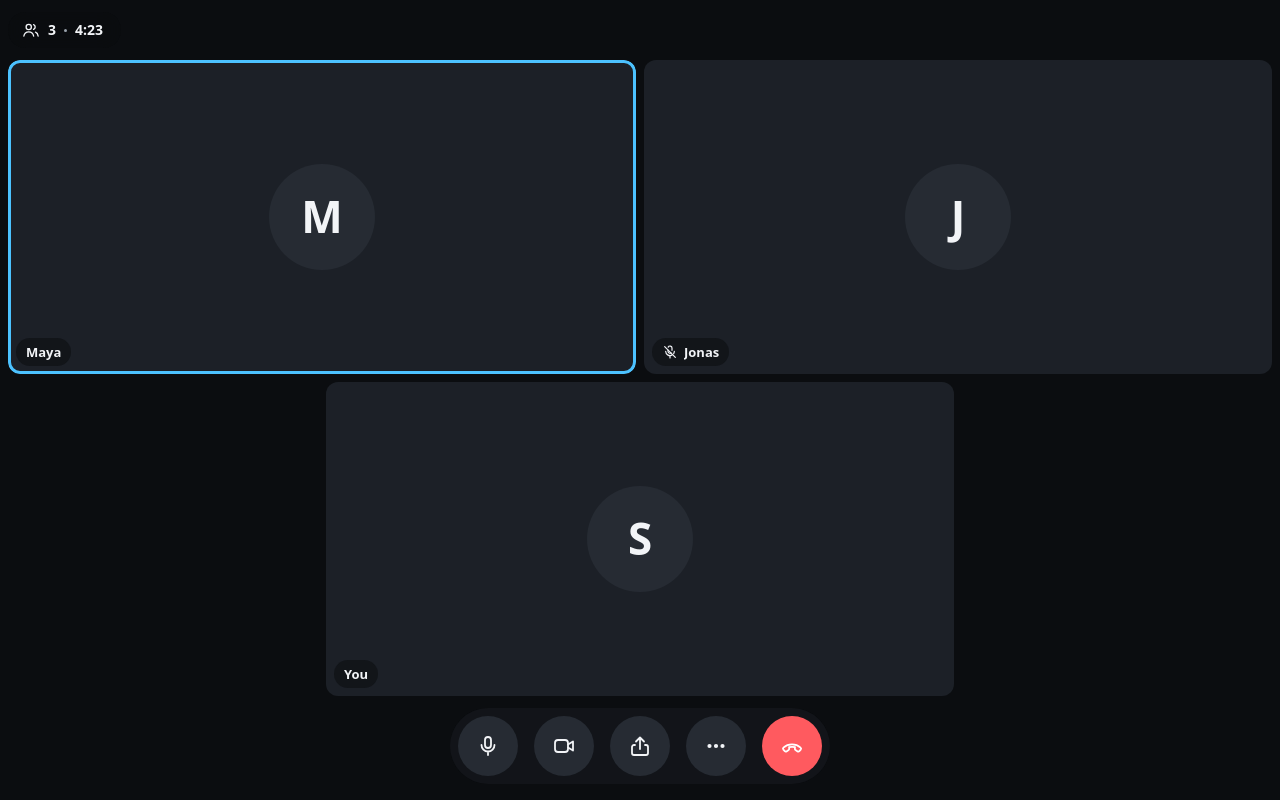
it: App › More sheet closes from its close button
Click the button with test id "more-menu" at (716, 746), box [686,716,746,776]
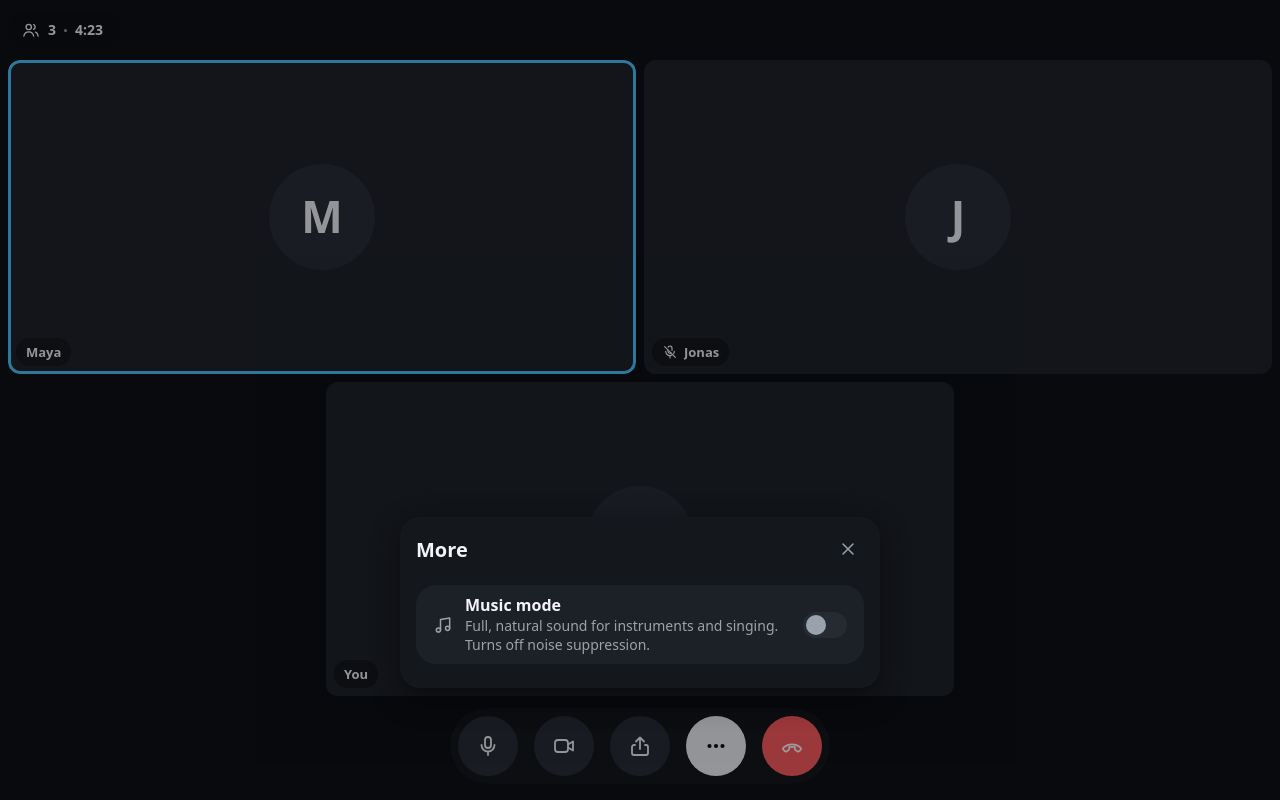
expect the dialog is shown: met, box [400,517,880,688]
Click the button with test id "sheet-close" at (848, 549), box [824,525,872,573]
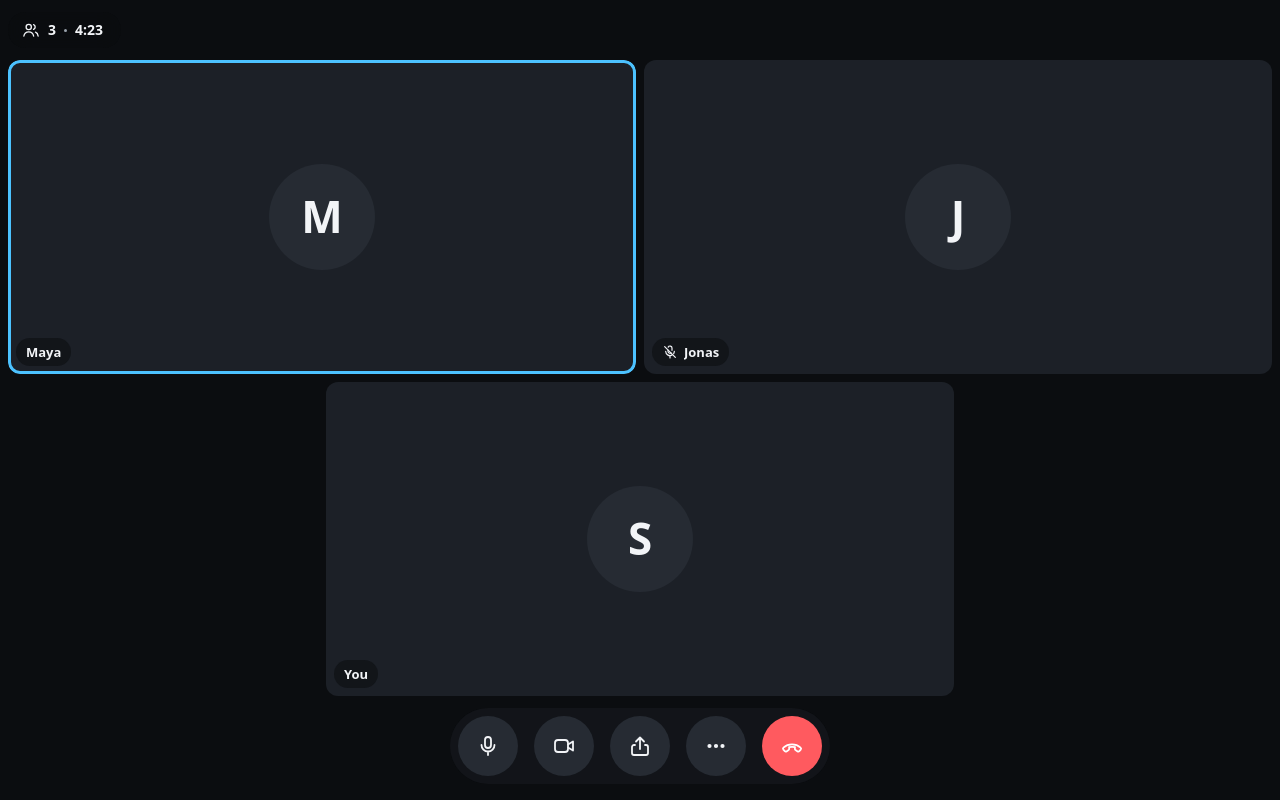
expect the dialog is gone: met
